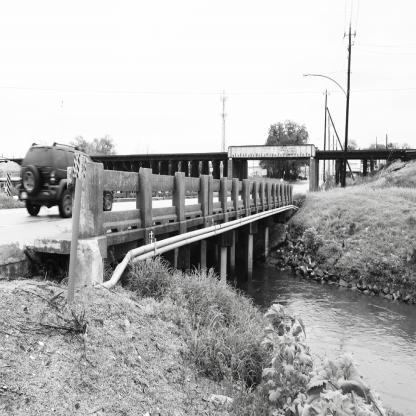Car: (19, 143, 115, 220)
